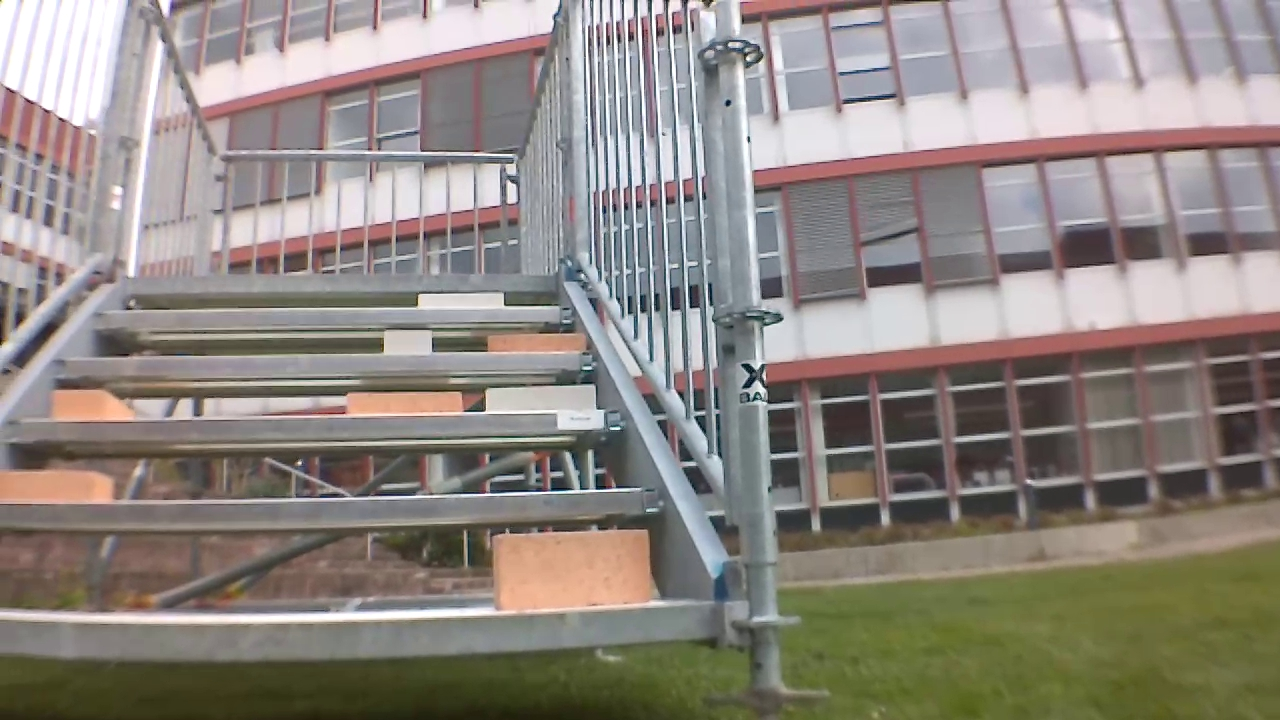brick: (486, 520, 662, 614), (485, 384, 600, 418), (0, 473, 122, 503), (352, 387, 470, 417), (52, 387, 138, 423), (415, 289, 503, 309), (483, 333, 584, 350), (382, 331, 429, 353)
edge: (0, 605, 736, 669), (0, 486, 672, 538), (11, 407, 640, 456), (55, 345, 603, 380), (91, 303, 573, 331), (104, 269, 565, 294)
stairs: (0, 0, 772, 703)
steps: (0, 263, 713, 659)
